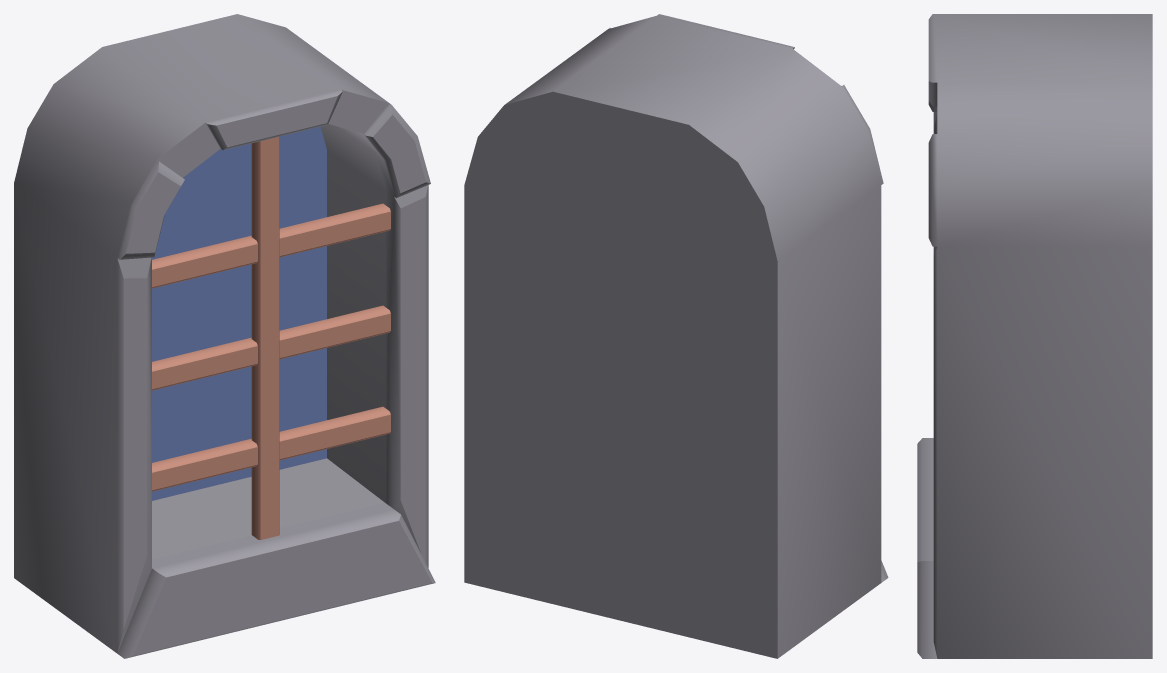
File: EndWindow.fbx
3 views of the same model, side by side, from view 1: azimuth 30°, elevation 25°; view 2: azimuth 150°, elevation 25°; view 3: azimuth 270°, elevation 25° (orthographic). The views are drawn at different scales.
Parts seen in each view (by area): view 1: Cube.054; view 2: Cube.054; view 3: Cube.054.
Part boxes in pixels (bbox=[...]): Cube.054: bbox=[14, 14, 435, 658]; Cube.054: bbox=[464, 14, 888, 658]; Cube.054: bbox=[917, 14, 1152, 658].
Size of the model in its own units: 107 by 168 by 67.45.
